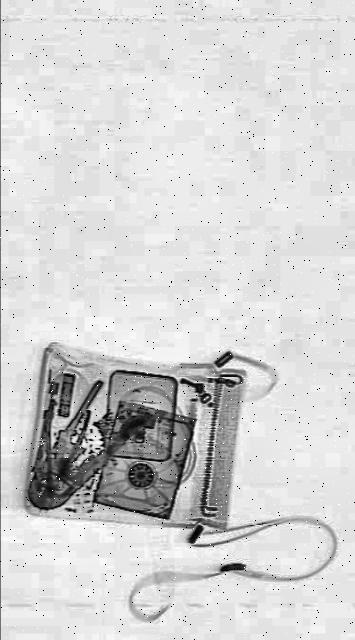Pliers: (18, 358, 142, 538)
